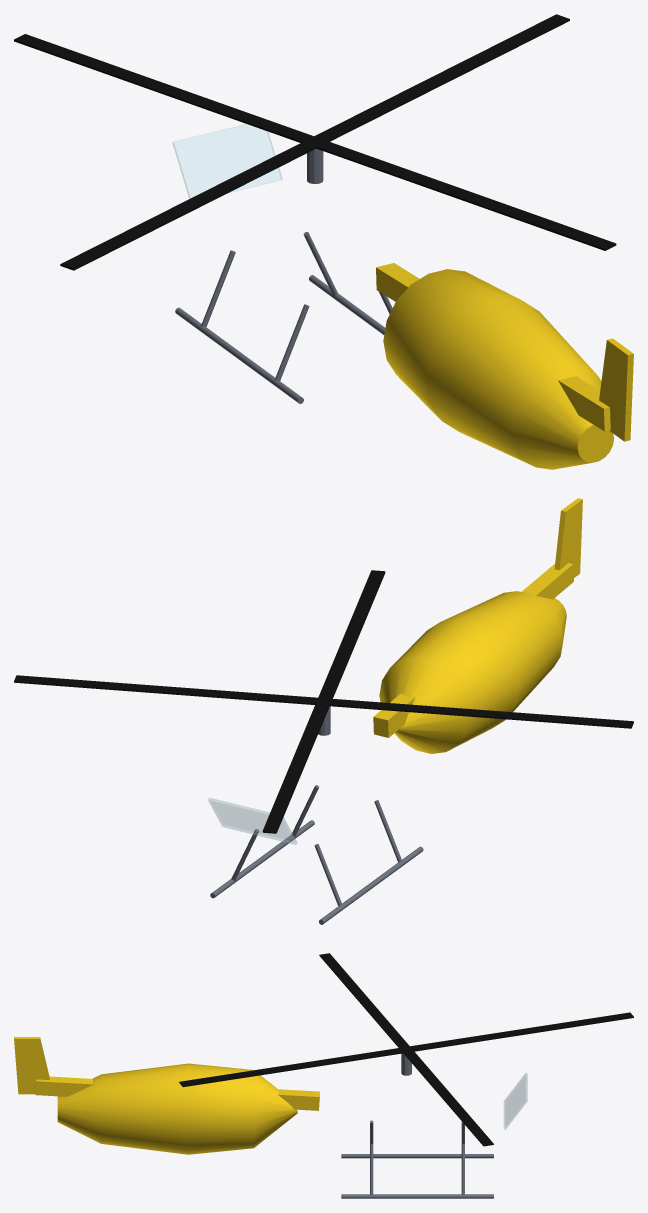
The model's file is airport.aircraft.helicopter.glb.
The picture shows the model from 3 angles, top to bottom: view 1: azimuth 30°, elevation 25°; view 2: azimuth 150°, elevation 25°; view 3: azimuth 270°, elevation 25°; orthographic projection. The views are drawn at different scales.
Visible parts, largest first — view 1: main__plastic_yellow, main__plastic_black, main__glass, main__steel_painted; view 2: main__plastic_yellow, main__plastic_black, main__steel_painted, main__glass; view 3: main__plastic_yellow, main__plastic_black, main__steel_painted, main__glass.
Part boxes in pixels (<box>): main__plastic_yellow: <box>376,263,633,469</box>; main__plastic_black: <box>14,14,616,270</box>; main__glass: <box>172,124,282,198</box>; main__steel_painted: <box>175,148,392,403</box>; main__plastic_yellow: <box>373,498,582,753</box>; main__plastic_black: <box>14,570,633,833</box>; main__steel_painted: <box>210,706,423,924</box>; main__glass: <box>208,798,297,844</box>; main__plastic_yellow: <box>14,1037,319,1154</box>; main__plastic_black: <box>179,953,633,1146</box>; main__steel_painted: <box>341,1053,493,1198</box>; main__glass: <box>504,1072,527,1129</box>.
Size of the model in its own units: 10.42 by 3.55 by 14.21.
